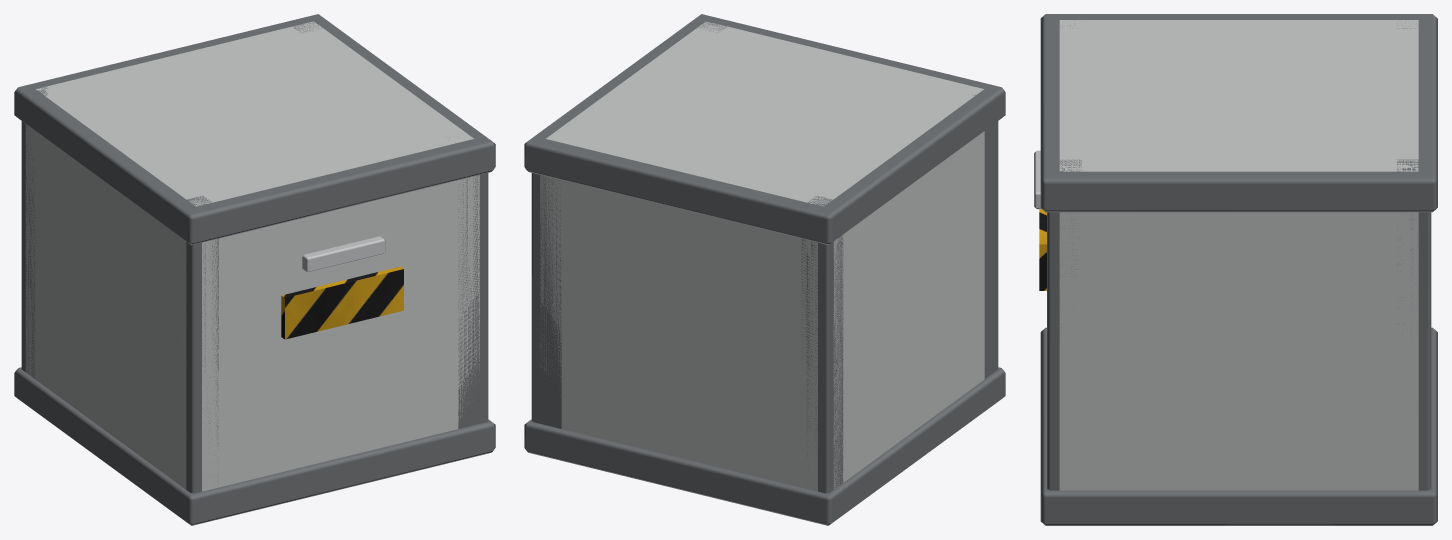
File: crate_small.glb
The picture shows the model from 3 angles, left to right: view 1: azimuth 30°, elevation 25°; view 2: azimuth 150°, elevation 25°; view 3: azimuth 270°, elevation 25°; orthographic projection. The views are drawn at different scales.
Parts seen in each view (by area): view 1: crate_small; view 2: crate_small; view 3: crate_small.
Boxes of the visible parts, bbox=[...] form: crate_small: bbox=[14, 14, 495, 525]; crate_small: bbox=[524, 14, 1005, 525]; crate_small: bbox=[1034, 14, 1437, 525].
Size of the model in its own units: 0.62 by 0.6 by 0.63.
4 materials, 1 textured.
